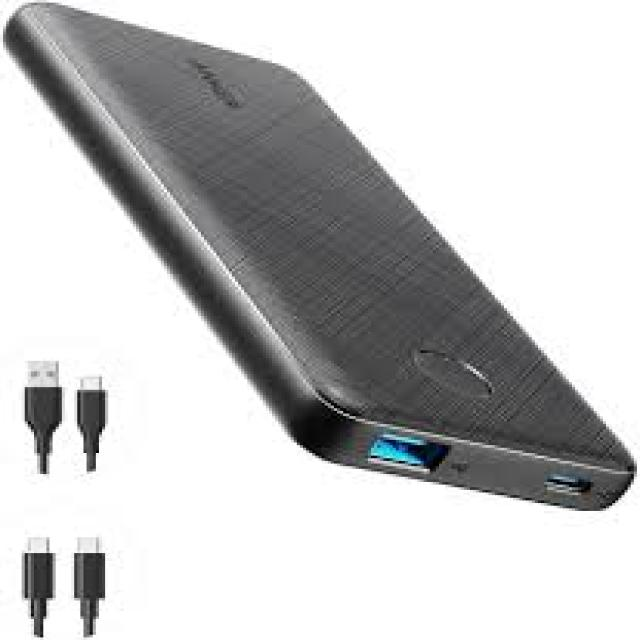power_bank: (3, 1, 639, 516)
